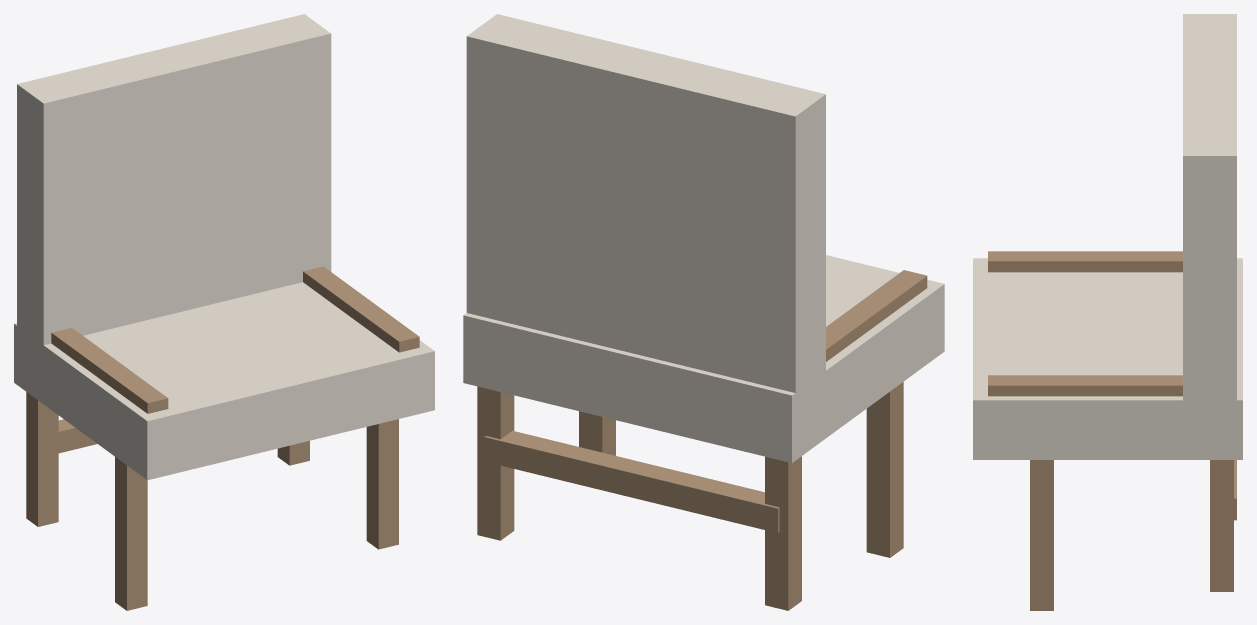
File: sample-chair.glb
3 views of the same model, side by side, from view 1: azimuth 30°, elevation 25°; view 2: azimuth 150°, elevation 25°; view 3: azimuth 270°, elevation 25° (orthographic). The views are drawn at different scales.
Parts seen in each view (by area): view 1: upholstery (×2), frame (×7); view 2: upholstery (×2), frame (×6); view 3: upholstery (×2), frame (×4).
Part boxes in pixels (x1=…): upholstery (×2): x1=14, y1=14, x2=434, y2=480; frame (×7): x1=26, y1=266, x2=419, y2=610; upholstery (×2): x1=463, y1=14, x2=944, y2=462; frame (×6): x1=477, y1=270, x2=927, y2=610; upholstery (×2): x1=973, y1=14, x2=1242, y2=459; frame (×4): x1=988, y1=251, x2=1233, y2=610.
Size of the model in its own units: 1.12 by 1.69 by 0.9.
